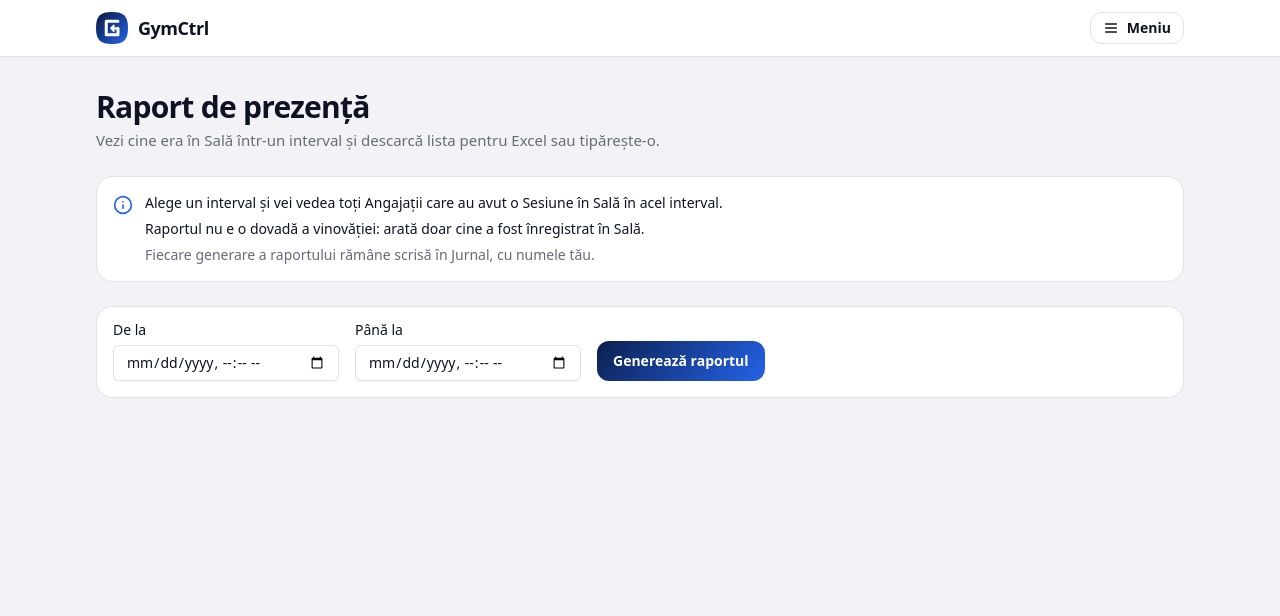
ecranul Rapoarte › generează raportul pe interval și afișează textele trimise de server
Expected: the heading "Raport de prezență" is shown, [96,86,370,127]
Expected: the text "Text de neacceptare trimis de server." is not shown
Step 1. Type "2026-01-05T10:00" into the field labelled "De la" → (226, 362), box [113,344,339,380]
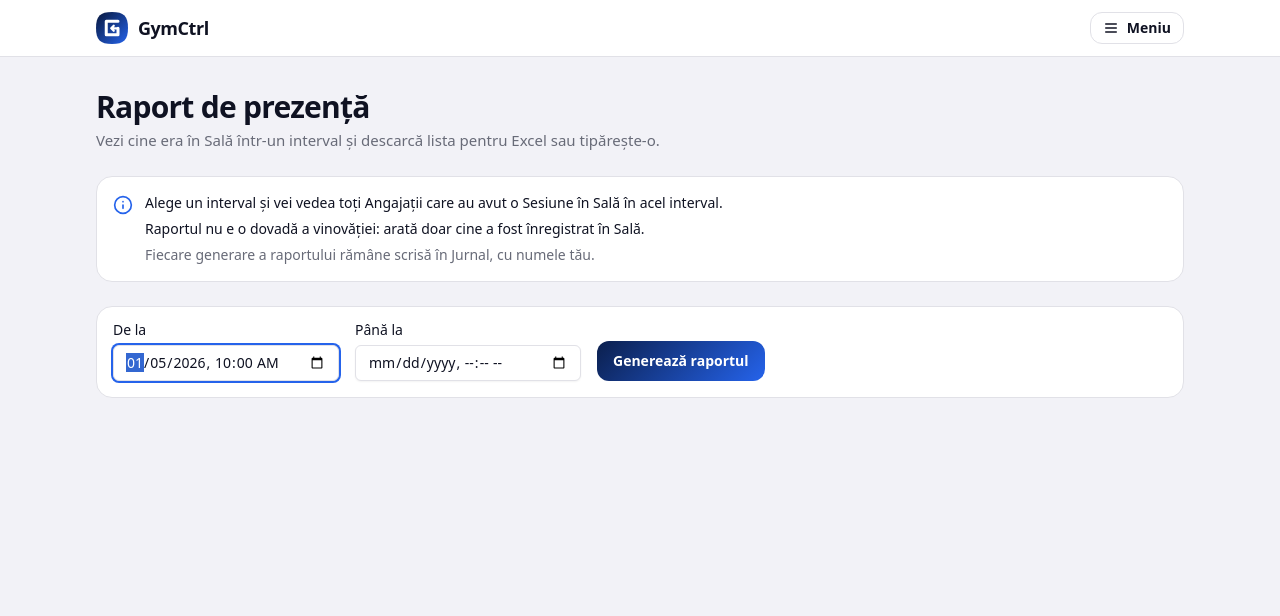
Step 2. Type "2026-01-05T12:00" into the field labelled "Până la" → (468, 362), box [355,344,581,380]
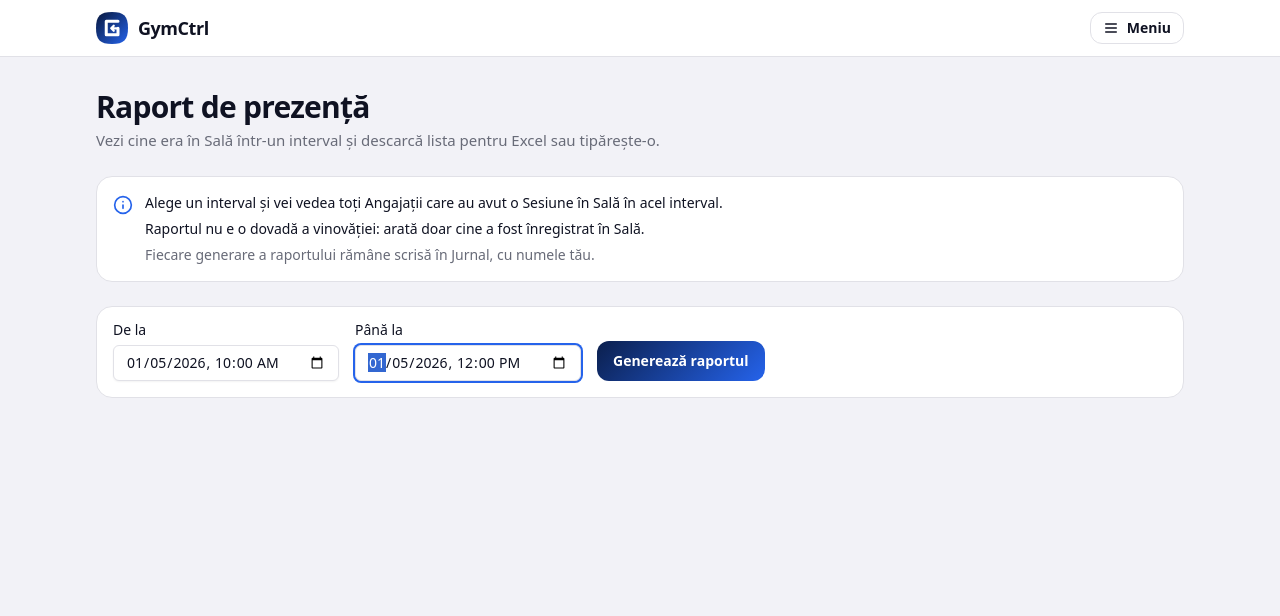
Step 3. Click the button "Generează raportul" → (681, 360), box [597,340,765,380]
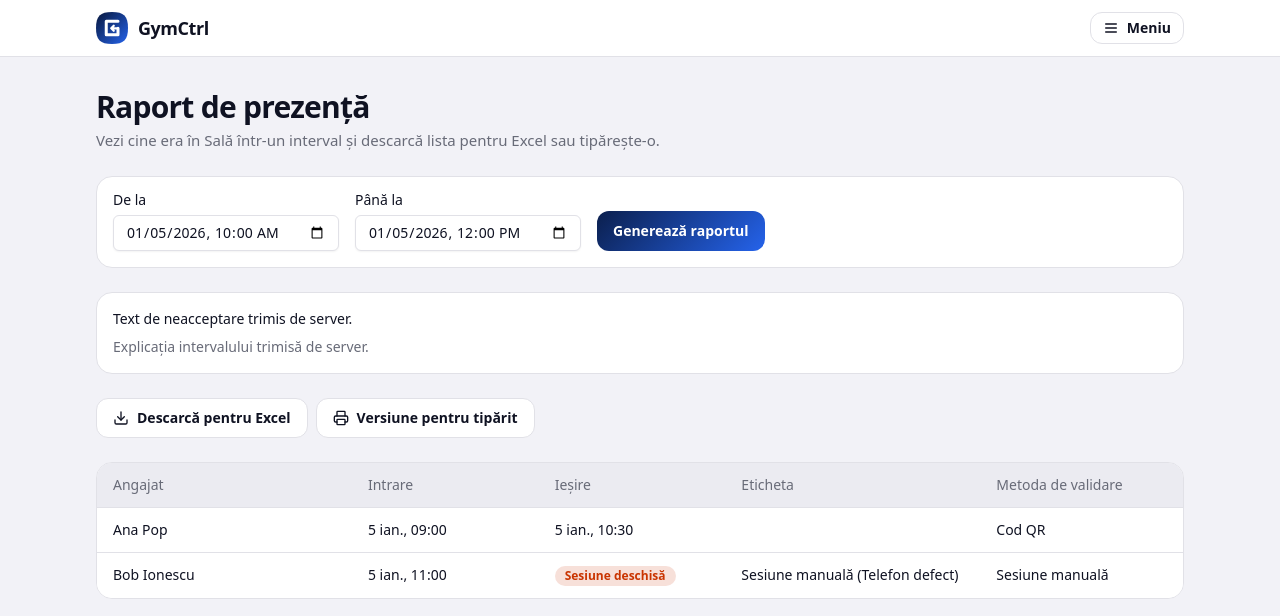
Now the text "Text de neacceptare trimis de server." is shown, box [113,308,352,328]
Now the text "Explicația intervalului trimisă de server." is shown, box [113,336,369,356]
Now the text "5 ian., 09:00" is shown, box [368,520,447,538]
